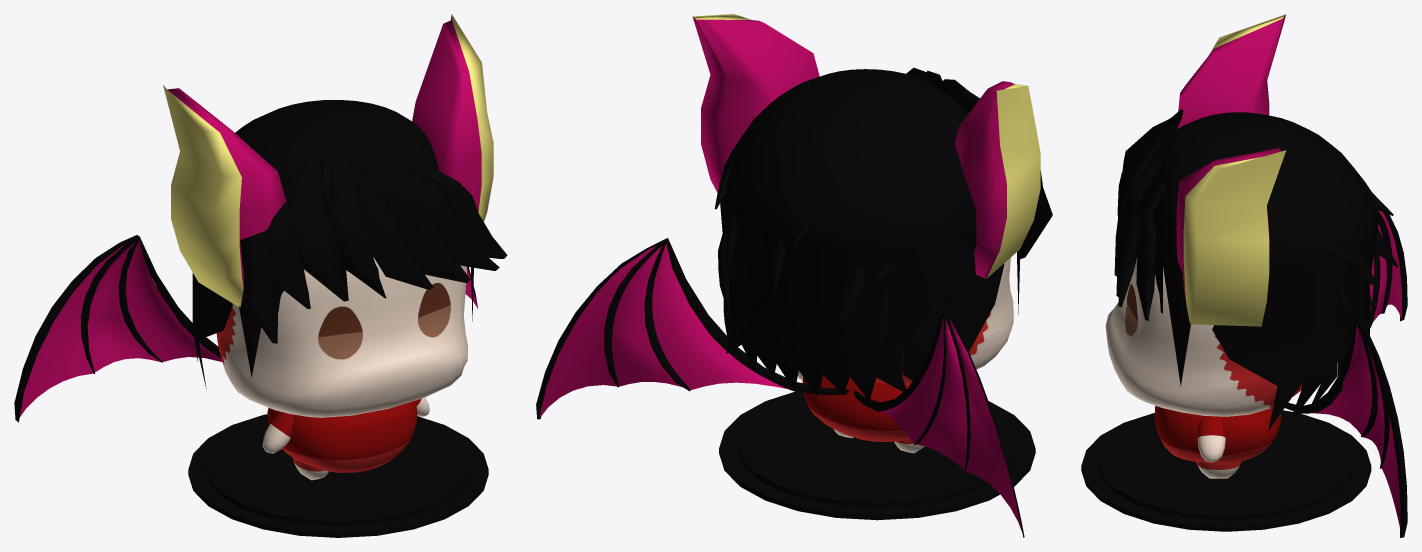
File: bat.fbx
The picture shows the model from 3 angles, left to right: view 1: azimuth 30°, elevation 25°; view 2: azimuth 150°, elevation 25°; view 3: azimuth 270°, elevation 25°; orthographic projection. The views are drawn at different scales.
Parts seen in each view (by area): view 1: bat01, base1, bat08, bat31, bat28, bat02, bat15, bat14, pPlane2, pPlane4, bat12, pPlane3 (+10 smaller); view 2: bat31, base1, bat08, bat28, pPlane2 (×2), pPlane4 (×2), pPlane3 (×2), bat02, pCube174 (×2), bat01, pCube176 (×2), pCube177 (+5 smaller); view 3: bat31, base1, bat28, bat01, bat08, bat02, pPlane2, bat16, pCube178 (×2), bat20, pPlane4 (×2), pPlane3 (×2) (+12 smaller).
Part boxes in pixels (x1,y1,x2,y2): bat01: [216, 257, 467, 417]; base1: [188, 414, 488, 537]; bat08: [163, 85, 286, 306]; bat31: [192, 100, 473, 389]; bat28: [412, 14, 493, 221]; bat02: [267, 400, 417, 472]; bat15: [287, 154, 348, 301]; bat14: [361, 159, 470, 282]; pPlane2: [125, 240, 222, 361]; pPlane4: [19, 245, 124, 417]; bat12: [328, 155, 386, 298]; pPlane3: [87, 243, 160, 372]; bat31: [718, 69, 1020, 401]; base1: [719, 391, 1035, 520]; bat08: [955, 81, 1040, 278]; bat28: [692, 14, 819, 192]; pPlane2 (×2): [652, 244, 943, 444]; pPlane4 (×2): [539, 246, 1022, 532]; pPlane3 (×2): [612, 246, 967, 470]; bat02: [802, 375, 924, 441]; pCube174 (×2): [665, 238, 943, 411]; bat01: [849, 257, 1013, 384]; pCube176 (×2): [604, 239, 970, 471]; pCube177: [644, 239, 690, 391]; bat31: [1146, 112, 1379, 431]; base1: [1081, 410, 1371, 531]; bat28: [1176, 148, 1286, 326]; bat01: [1105, 257, 1301, 416]; bat08: [1177, 14, 1286, 128]; bat02: [1154, 406, 1281, 463]; pPlane2: [1303, 324, 1372, 434]; bat16: [1118, 148, 1162, 307]; pCube178 (×2): [1355, 212, 1407, 537]; bat20: [1136, 182, 1167, 320]; pPlane4 (×2): [1378, 210, 1401, 528]; pPlane3 (×2): [1361, 224, 1386, 460].
Size of the model in its own units: 10.64 by 8.86 by 6.75.
4 materials, 1 textured.
